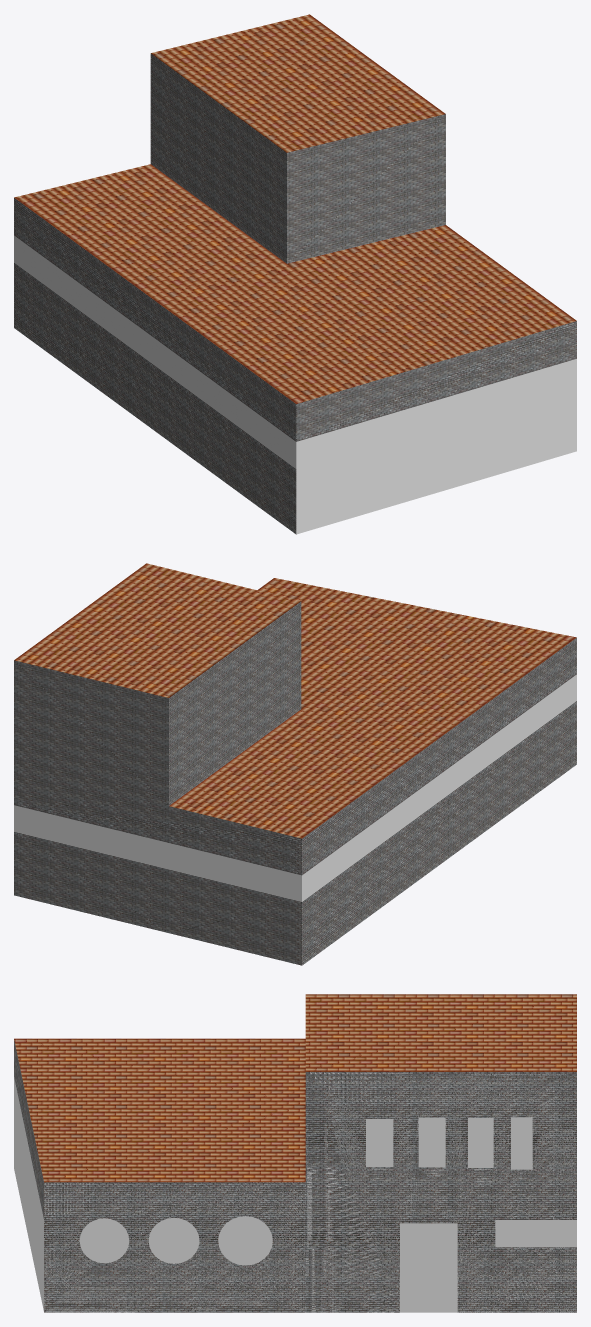
File: build.dae
The picture shows the model from 3 angles, top to bottom: view 1: azimuth 30°, elevation 25°; view 2: azimuth 150°, elevation 25°; view 3: azimuth 270°, elevation 25°; orthographic projection. The views are drawn at different scales.
Parts seen in each view (by area): view 1: SketchUp (×4); view 2: SketchUp (×4); view 3: SketchUp (×11).
Boxes of the visible parts, x1,y1,x2,y2 form: SketchUp (×4): (14,14,576,534); SketchUp (×4): (14,563,576,965); SketchUp (×11): (14,994,576,1312).
Bounding box in the file's own units: 344 × 568 × 268.
Materials: 3 (2 with a texture image).
